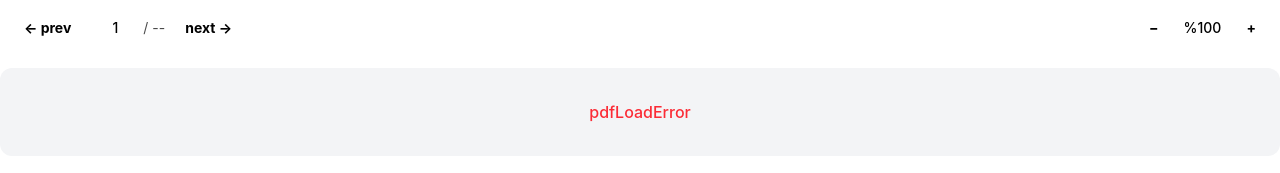
Test case: PdfViewer › changes zoom level with + and − controls
The width and height of the screenshot is (1280, 173).
Expected: the text "%100" is shown, [1184,19,1221,36]
Expected: the button "−" is shown, [1137,12,1170,44]
Click the button "+" at [1251, 28], box [1234,12,1268,44]
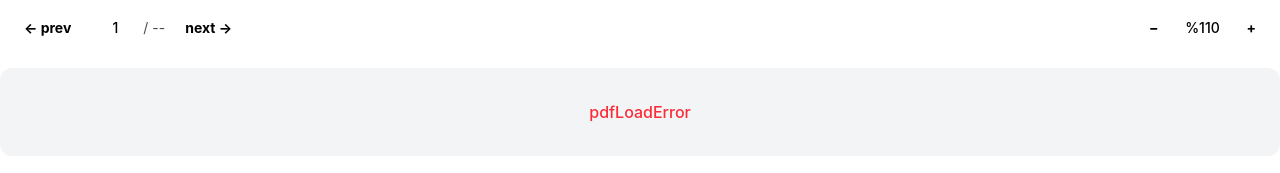
Expected: the text "%110" is shown, [1185,19,1220,36]
Click the button "−" at [1154, 28], box [1137,12,1170,44]
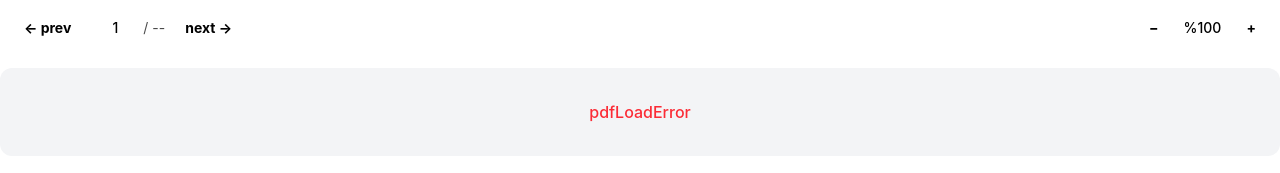
Expected: the text "%100" is shown, [1184,19,1221,36]
